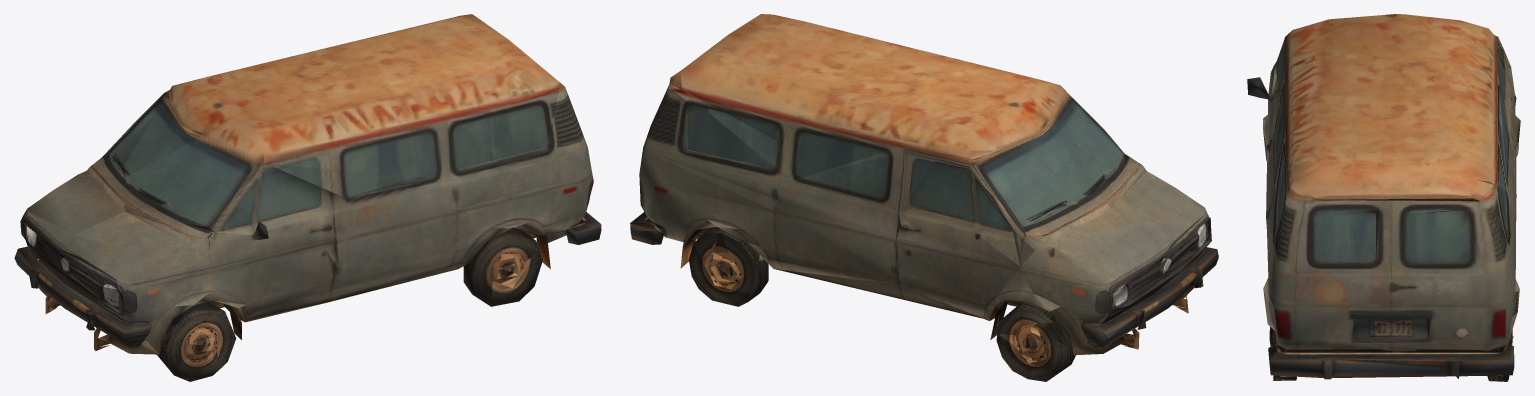
The model's file is car_minivan_light.glb.
3 views of the same model, side by side, from view 1: azimuth 30°, elevation 25°; view 2: azimuth 150°, elevation 25°; view 3: azimuth 270°, elevation 25° (orthographic). The views are drawn at different scales.
Visible parts, largest first — view 1: output_unwrapped; view 2: output_unwrapped; view 3: output_unwrapped.
Boxes of the visible parts, x1,y1,x2,y2 form: output_unwrapped: (14,14,601,381); output_unwrapped: (630,14,1218,381); output_unwrapped: (1247,14,1520,381).
Bounding box in the file's own units: 4.16 × 1.75 × 1.84.
1 material, 1 textured.
